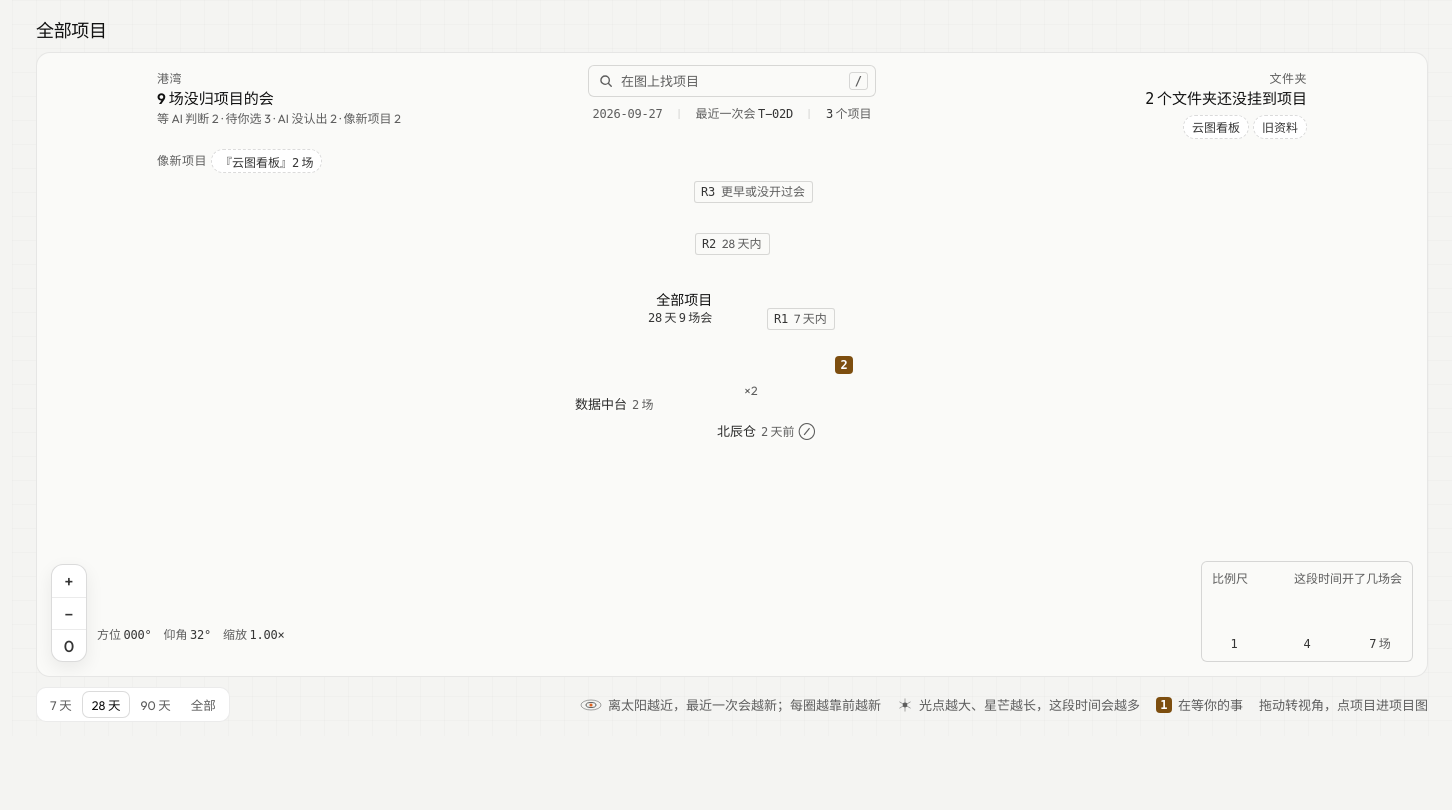
OverviewGraph › 灰色岛：［不是项目］走 2a 的接口，岛从画布上消失，提示里能撤销；［建成项目］走认领
Click the button with aria-label "没挂到项目的文件夹：旧资料" at (1280, 127), box [1253,115,1307,139]
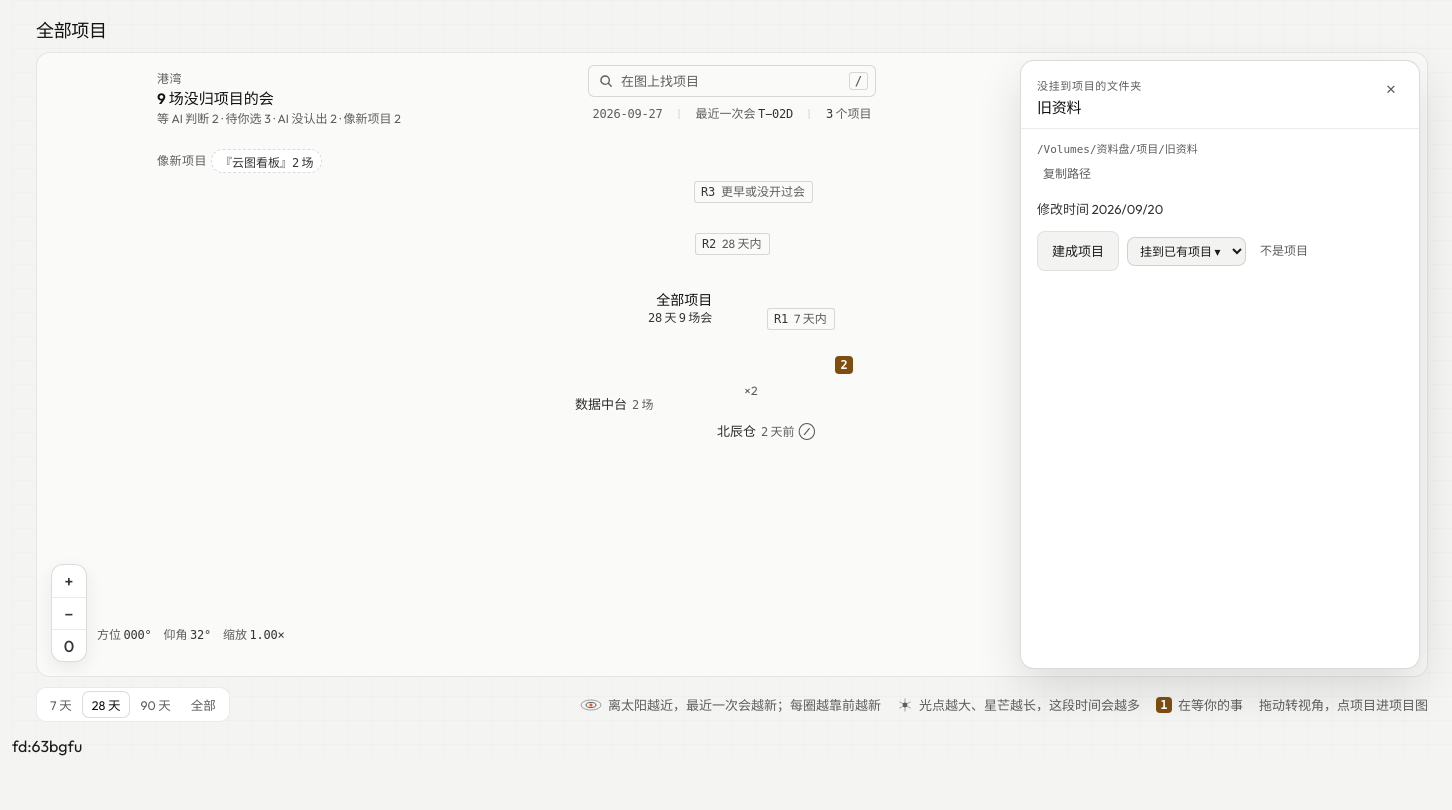
Check: the text "/Volumes/资料盘/项目/旧资料" is shown, box [1037,143,1198,156]
Click the button "不是项目" at (1284, 251), box [1254,237,1314,265]
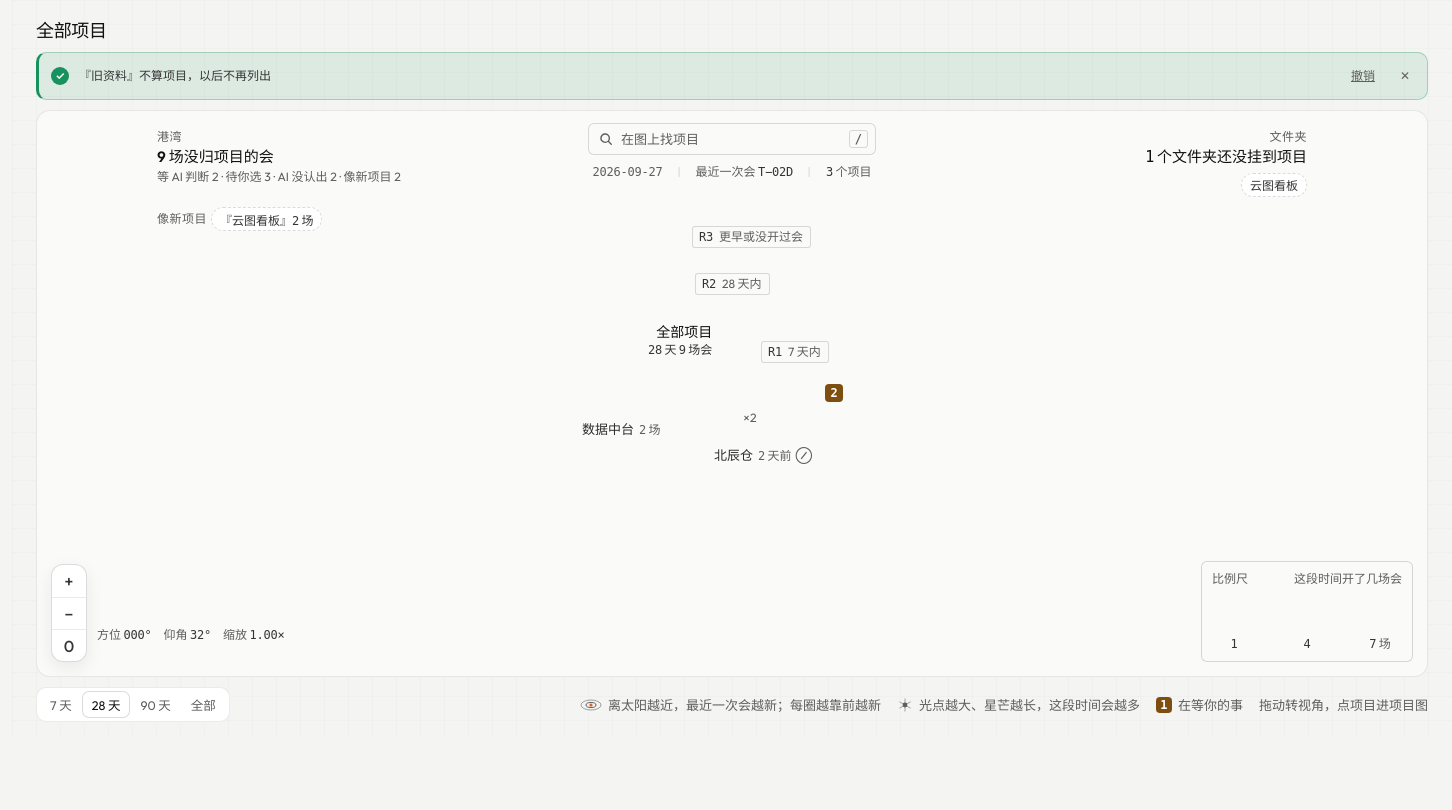
Check: the button "没挂到项目的文件夹：旧资料" is gone
Check: the element "详情面板" is gone
Click the button "撤销" at (1363, 76), box [1345,62,1381,90]
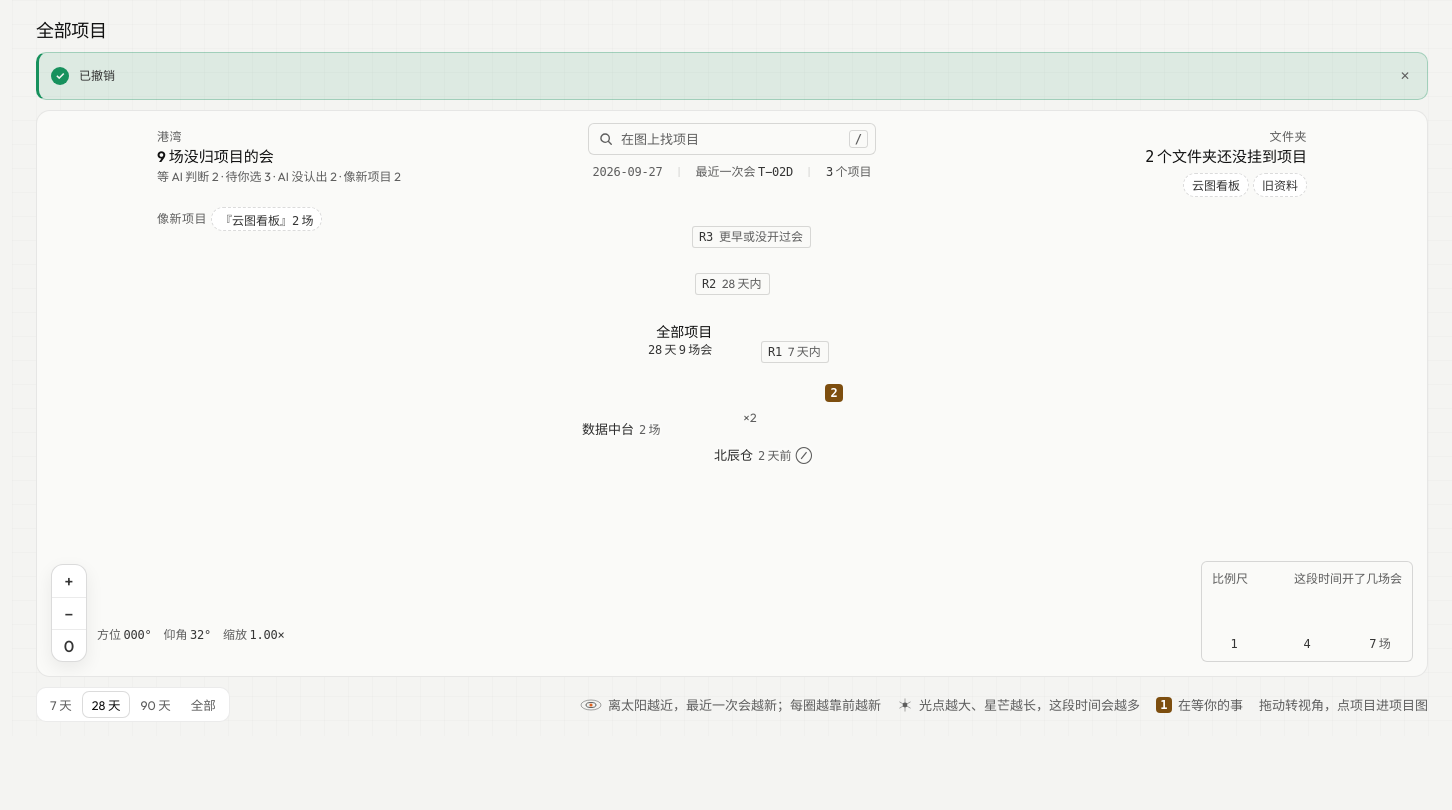
Check: the button with aria-label "没挂到项目的文件夹：旧资料" is shown, box [1253,173,1307,197]
Click the button with aria-label "没挂到项目的文件夹：云图看板" at (1216, 185), box [1183,173,1249,197]
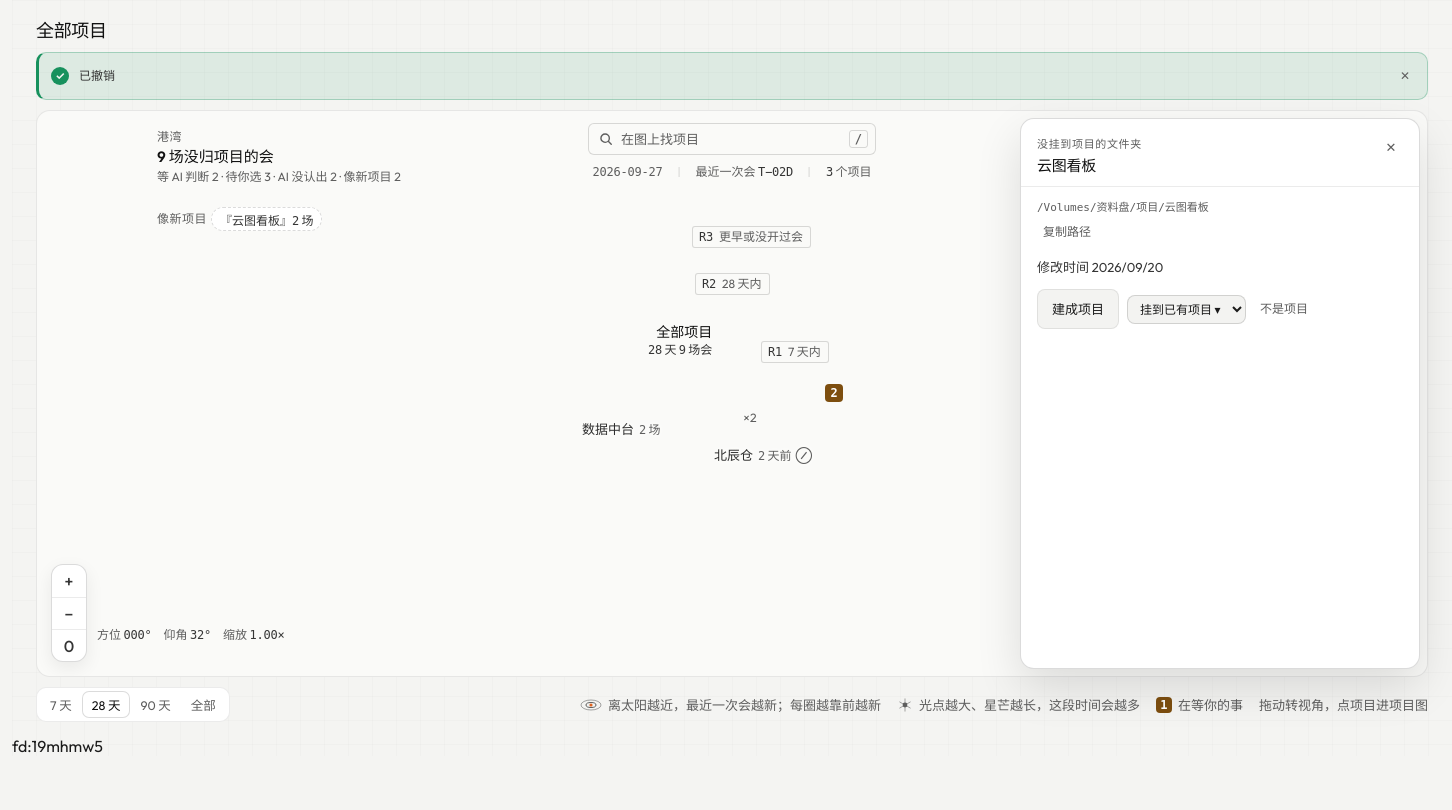
Click the button "建成项目" at (1078, 309), box [1037,289,1119,329]
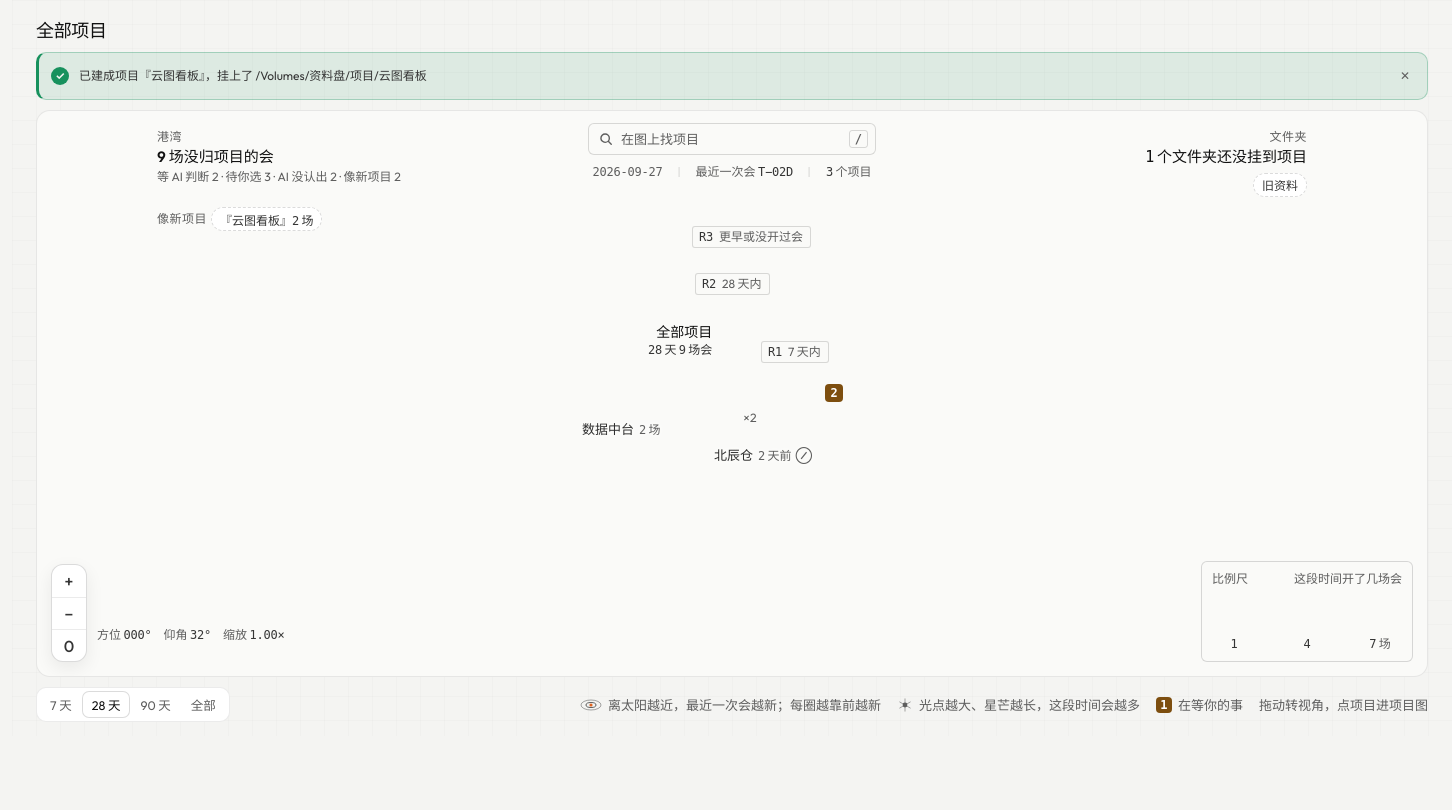
Check: the text "已建成项目『云图看板』，挂上了 /Volumes/资料盘/项目/云图看板" is shown, box [79,68,427,83]
